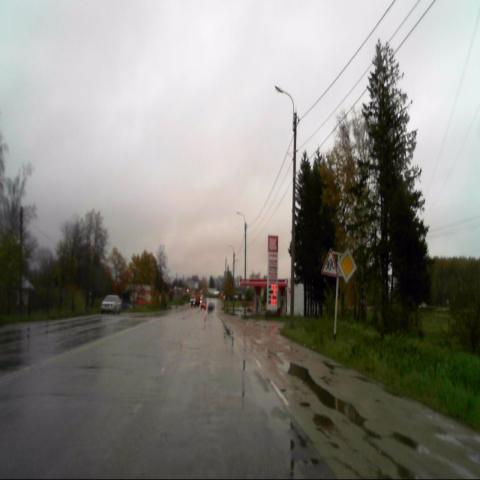1_23: (320, 249, 336, 277)
2_1: (337, 248, 357, 284)
